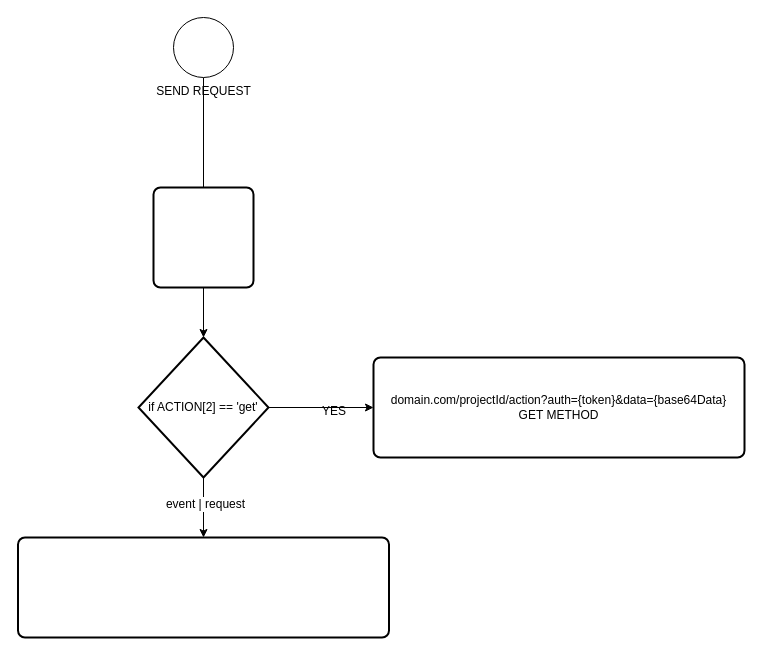
The diagram is 763 pixels wide and 656 high, and some of its shapes have lost their labels. The box of each missing label's shape, as (x1, y1, x2, y2) in pixels:
domain.com/projectId/action?auth={token} POST METHOD Body: data (no base64): (16, 536, 390, 638)
Generate Auth Token with secret: (152, 186, 254, 288)
